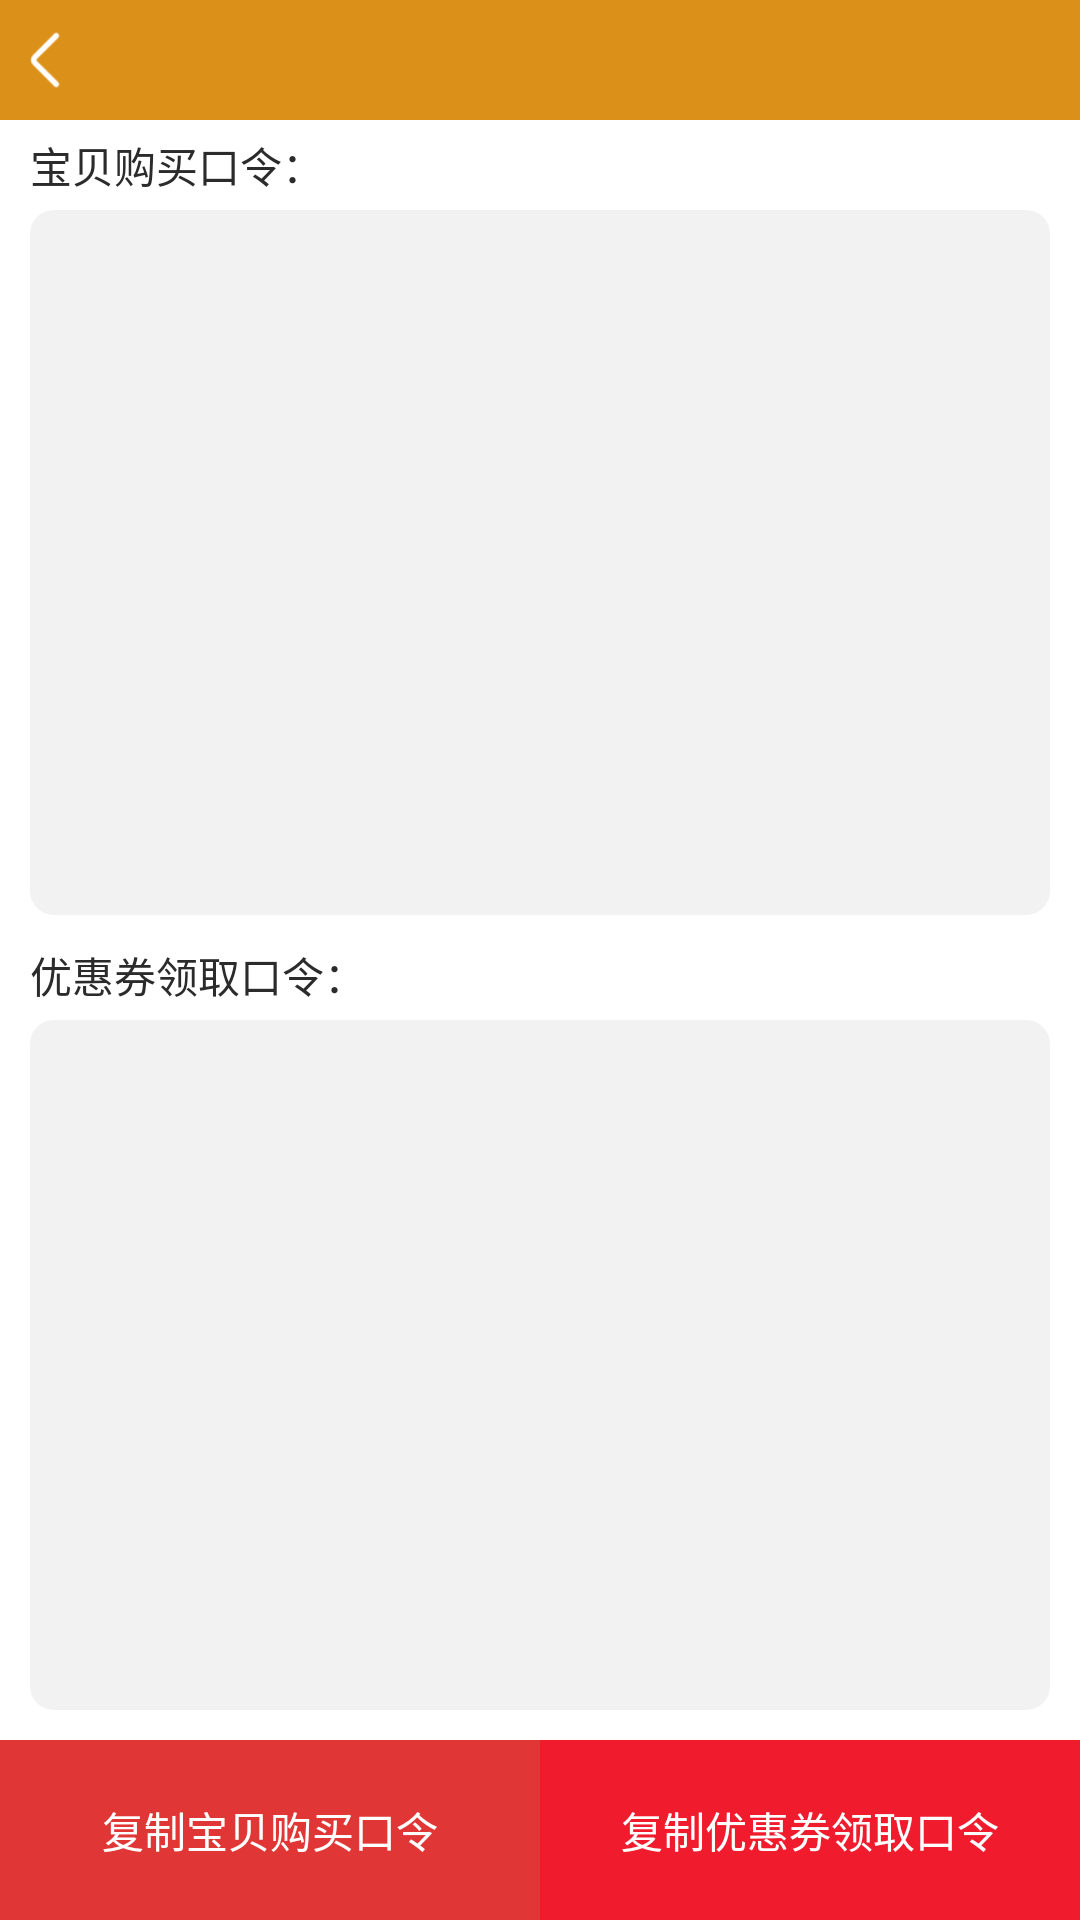

Screen size 1080px×1920px. Icon name, then its box in pixels as (x1, y1, x2, y2):
back: (30, 32, 60, 88)
